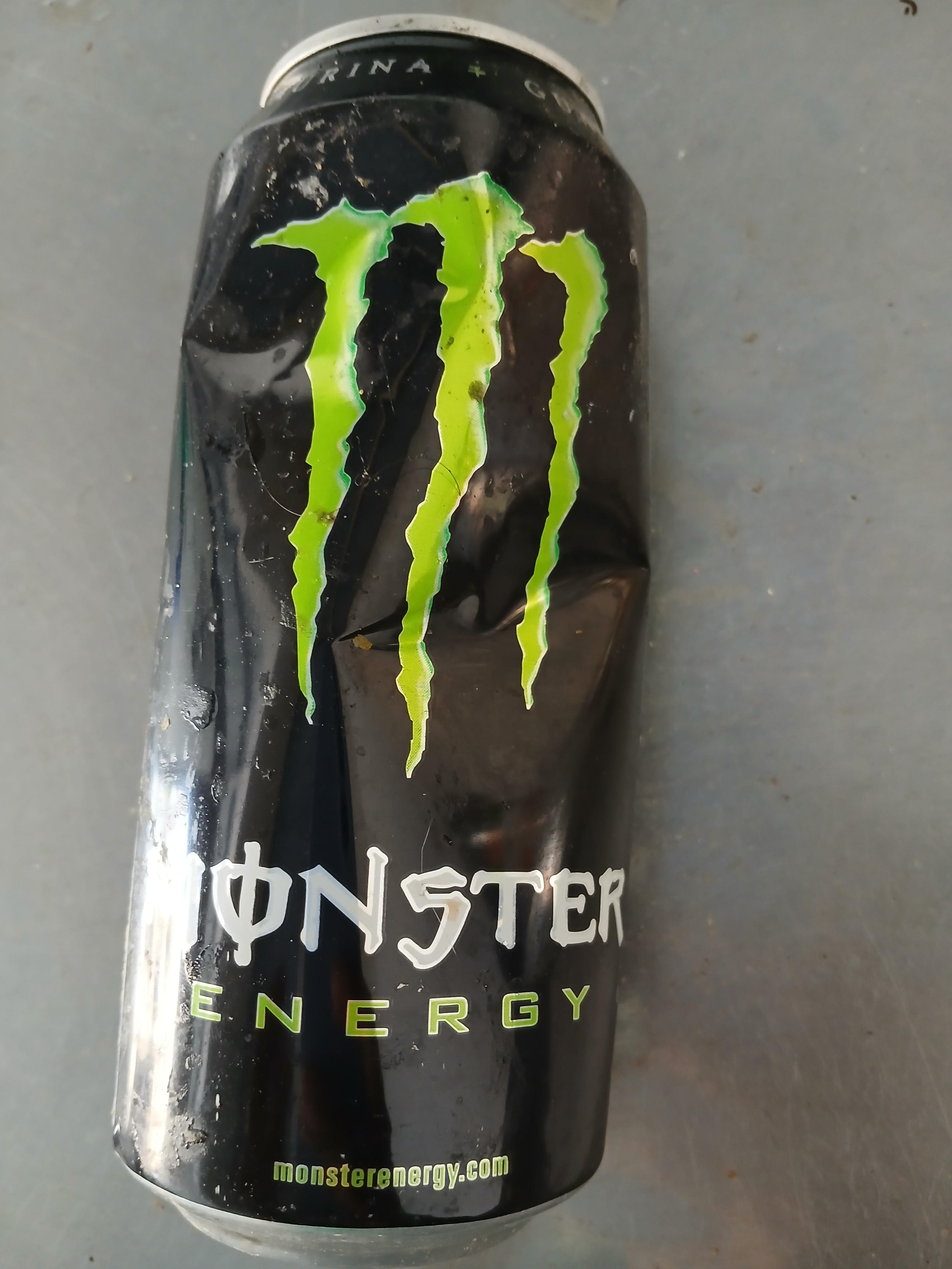Metal: (110, 18, 648, 1257)
